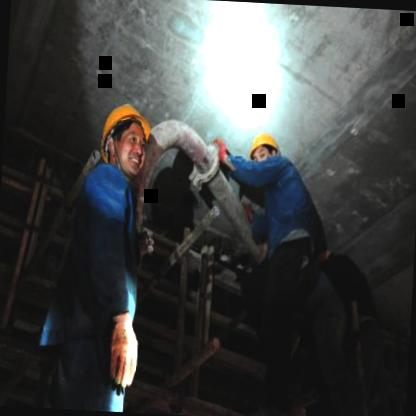helmet: (96, 98, 156, 180), (244, 128, 282, 178)
